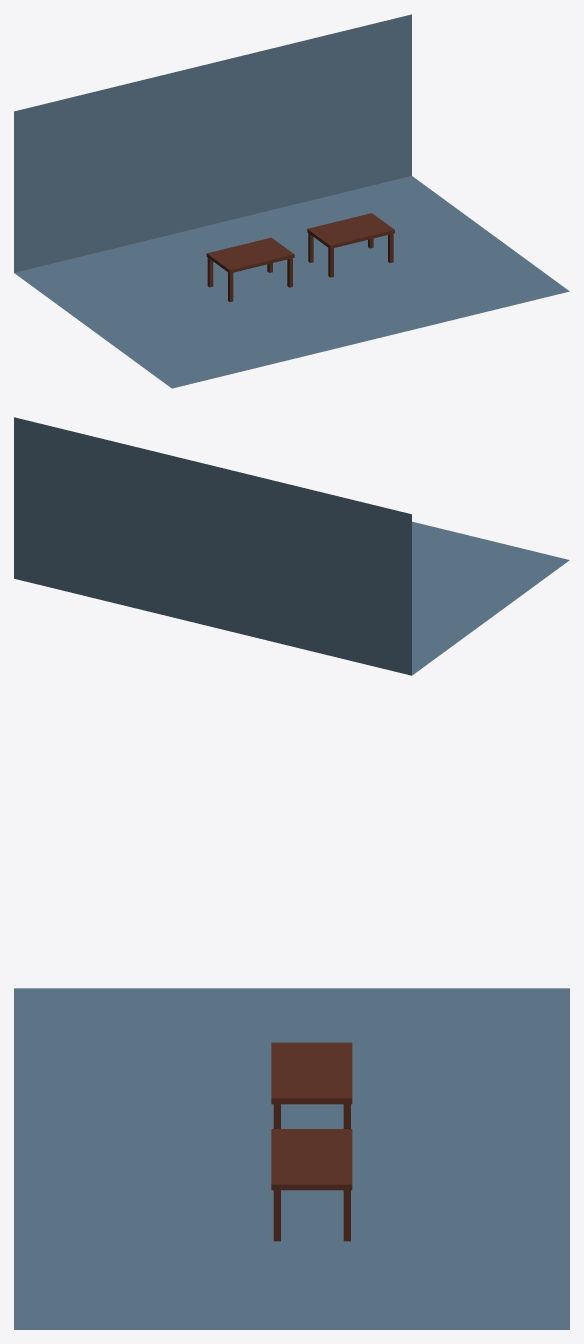
The model's file is bgElek.gltf.
The picture shows the model from 3 angles, top to bottom: view 1: azimuth 30°, elevation 25°; view 2: azimuth 150°, elevation 25°; view 3: azimuth 270°, elevation 25°; orthographic projection. The views are drawn at different scales.
Parts seen in each view (by area): view 1: BG, Cube.021, Cube.026; view 2: BG; view 3: BG, Cube.021, Cube.026.
Part boxes in pixels (left/top/right/bottom): BG: left=14, top=14, right=569, bottom=388; Cube.021: left=206, top=237, right=294, bottom=273; Cube.026: left=307, top=213, right=394, bottom=248; BG: left=14, top=417, right=569, bottom=675; BG: left=14, top=988, right=569, bottom=1329; Cube.021: left=271, top=1042, right=352, bottom=1104; Cube.026: left=271, top=1129, right=352, bottom=1190.
Bounding box in the file's own units: 9.35 × 3.62 × 6.43.
